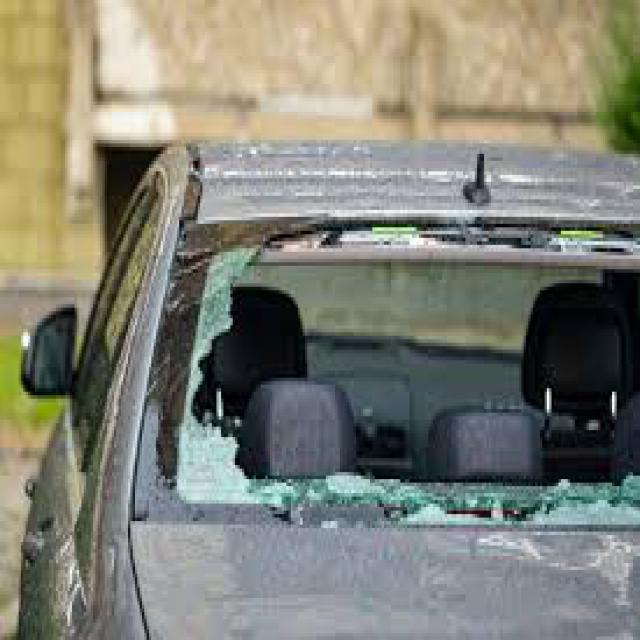Rear-windscreen-Damage: (95, 185, 638, 535)
